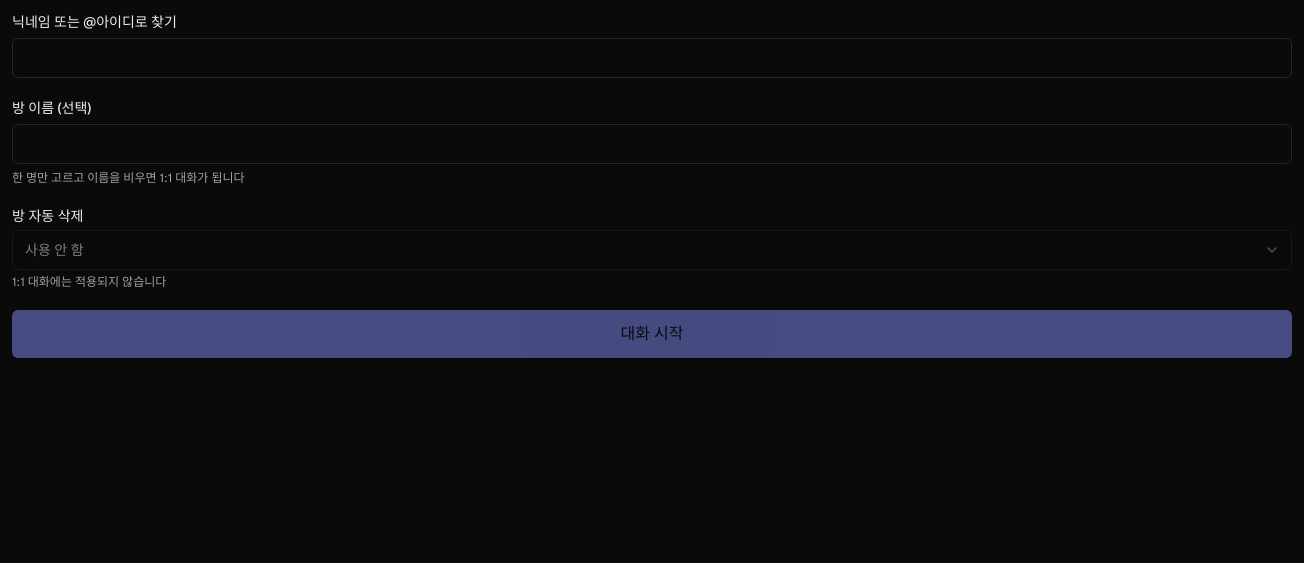
Test: CreateRoomForm › explains a failure and stays on the form
The width and height of the screenshot is (1304, 563).
Type "bo" into the field labelled "닉네임 또는 @아이디로 찾기".
click(652, 58); type("bo")  # box [12,38,1292,78]
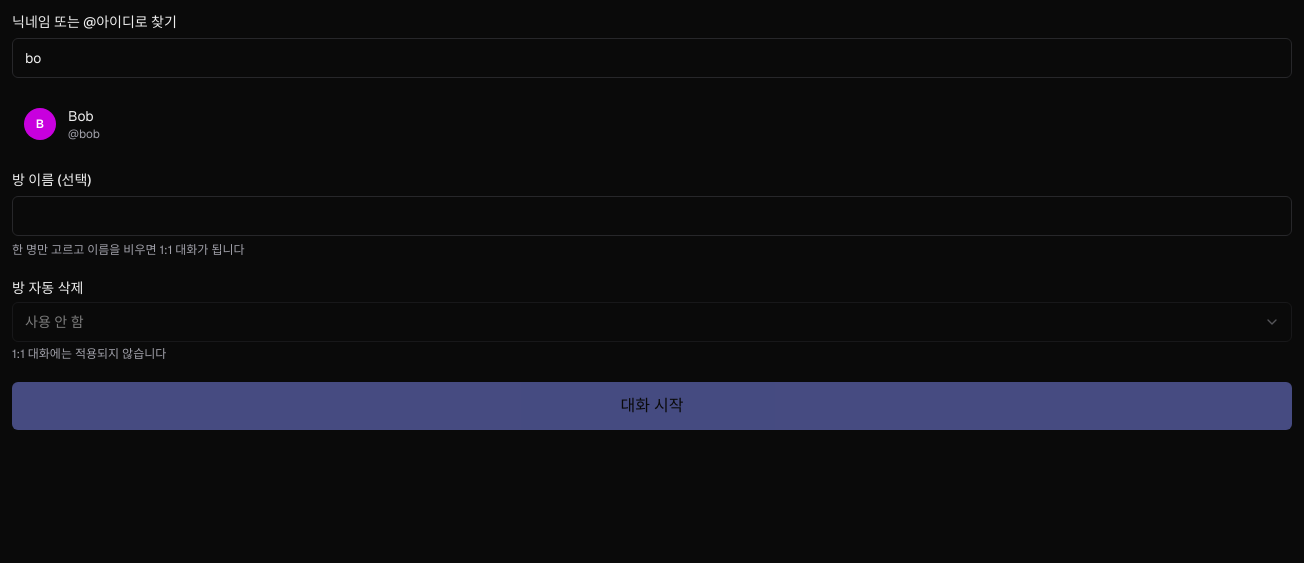
Click the button "B Bob @bob".
click(40, 124)  # box [12,98,1292,150]
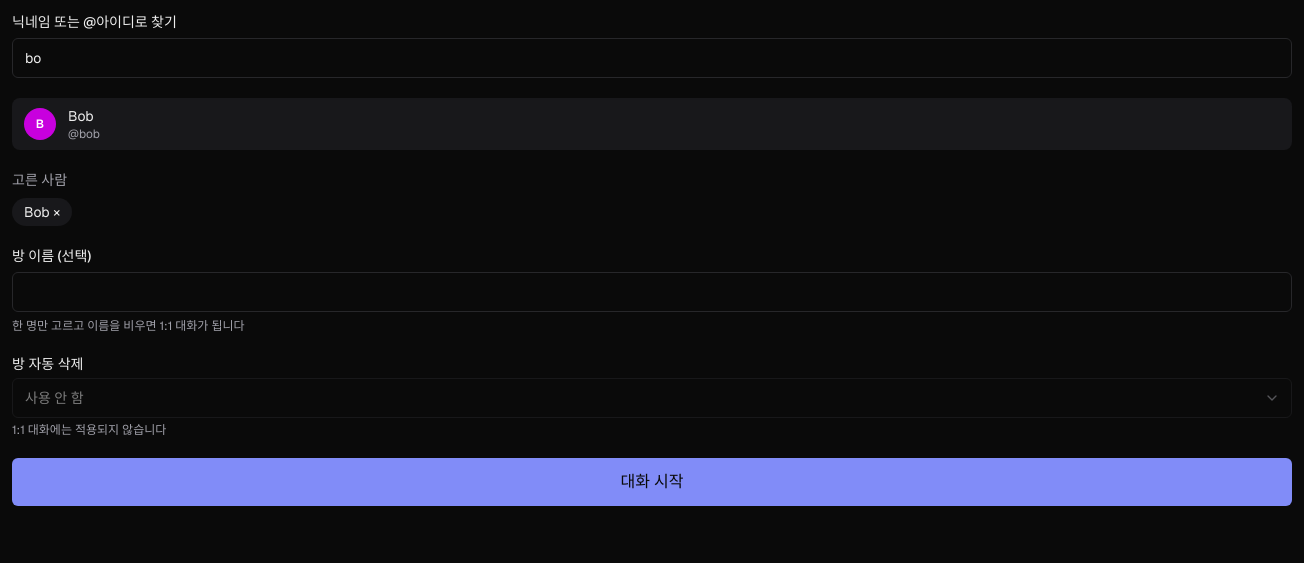
Click the button "대화 시작".
click(652, 482)  # box [12,458,1292,506]
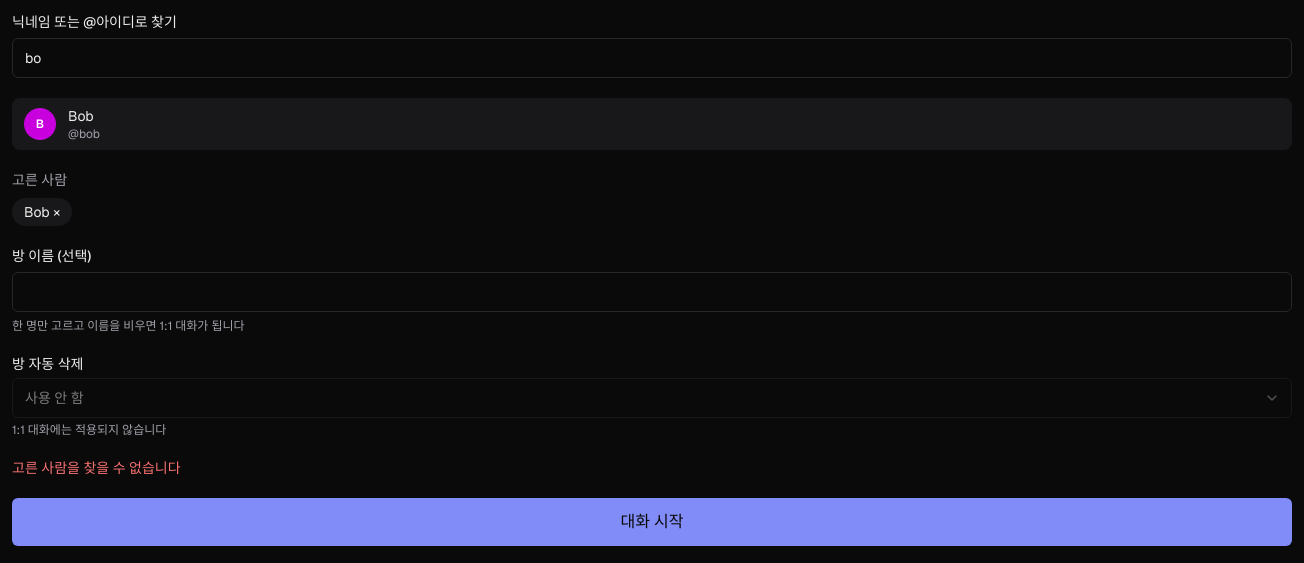
Expected: the message reads "고른 사람을 찾을 수 없습니다", [12,459,181,477]
